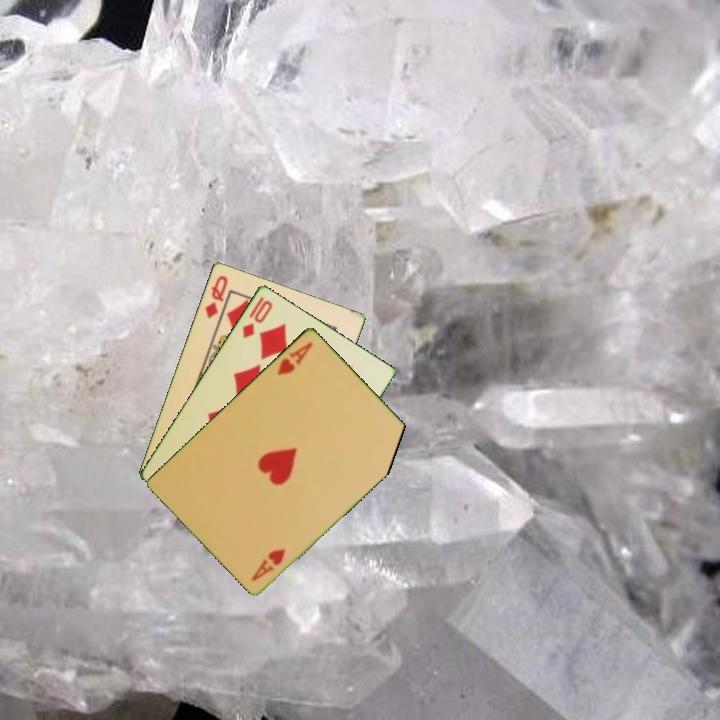10d: (238, 293, 276, 341)
Ah: (273, 338, 316, 377), (248, 544, 289, 584)
Qd: (201, 272, 230, 321)
